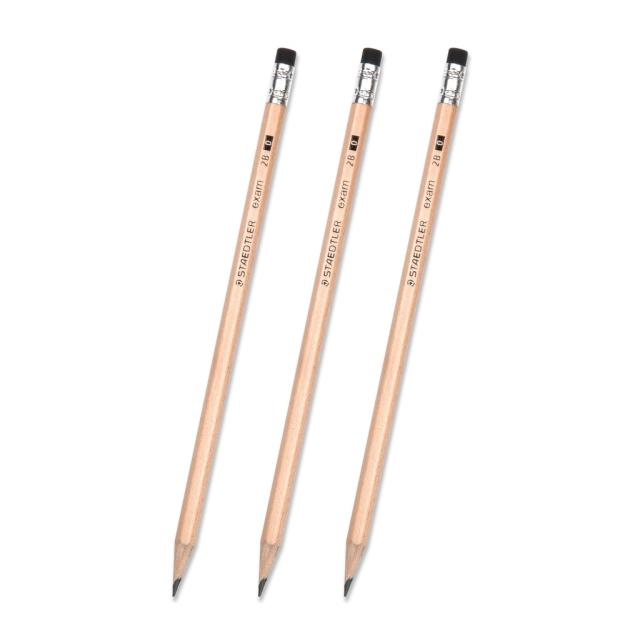pencil: (250, 44, 395, 617), (166, 45, 308, 619), (341, 45, 477, 620)
